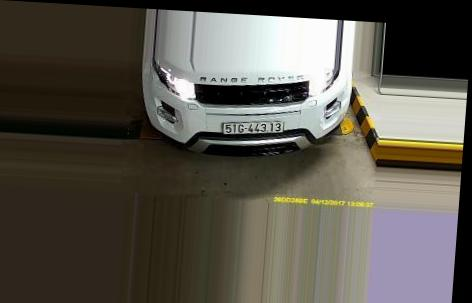License_Plate: (221, 114, 289, 141)
